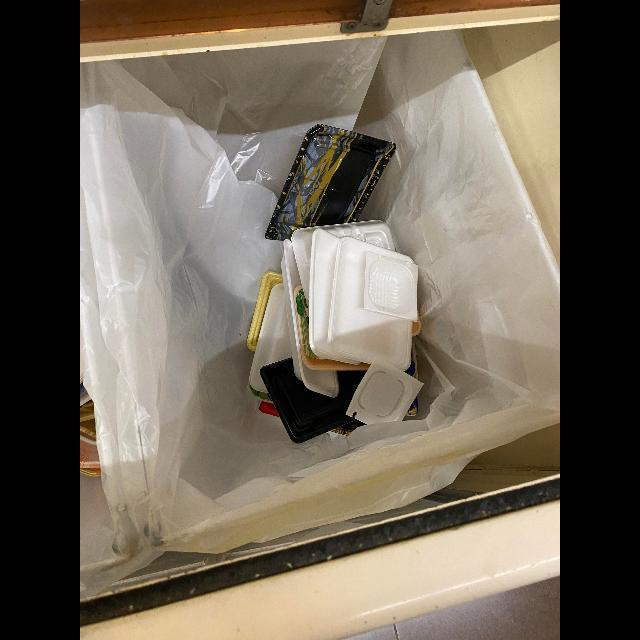plastic: (265, 124, 397, 241), (260, 357, 366, 444), (345, 357, 424, 425), (364, 251, 418, 322)
styrofoam: (327, 237, 418, 372), (281, 239, 340, 399), (309, 229, 360, 366), (249, 283, 292, 394)
